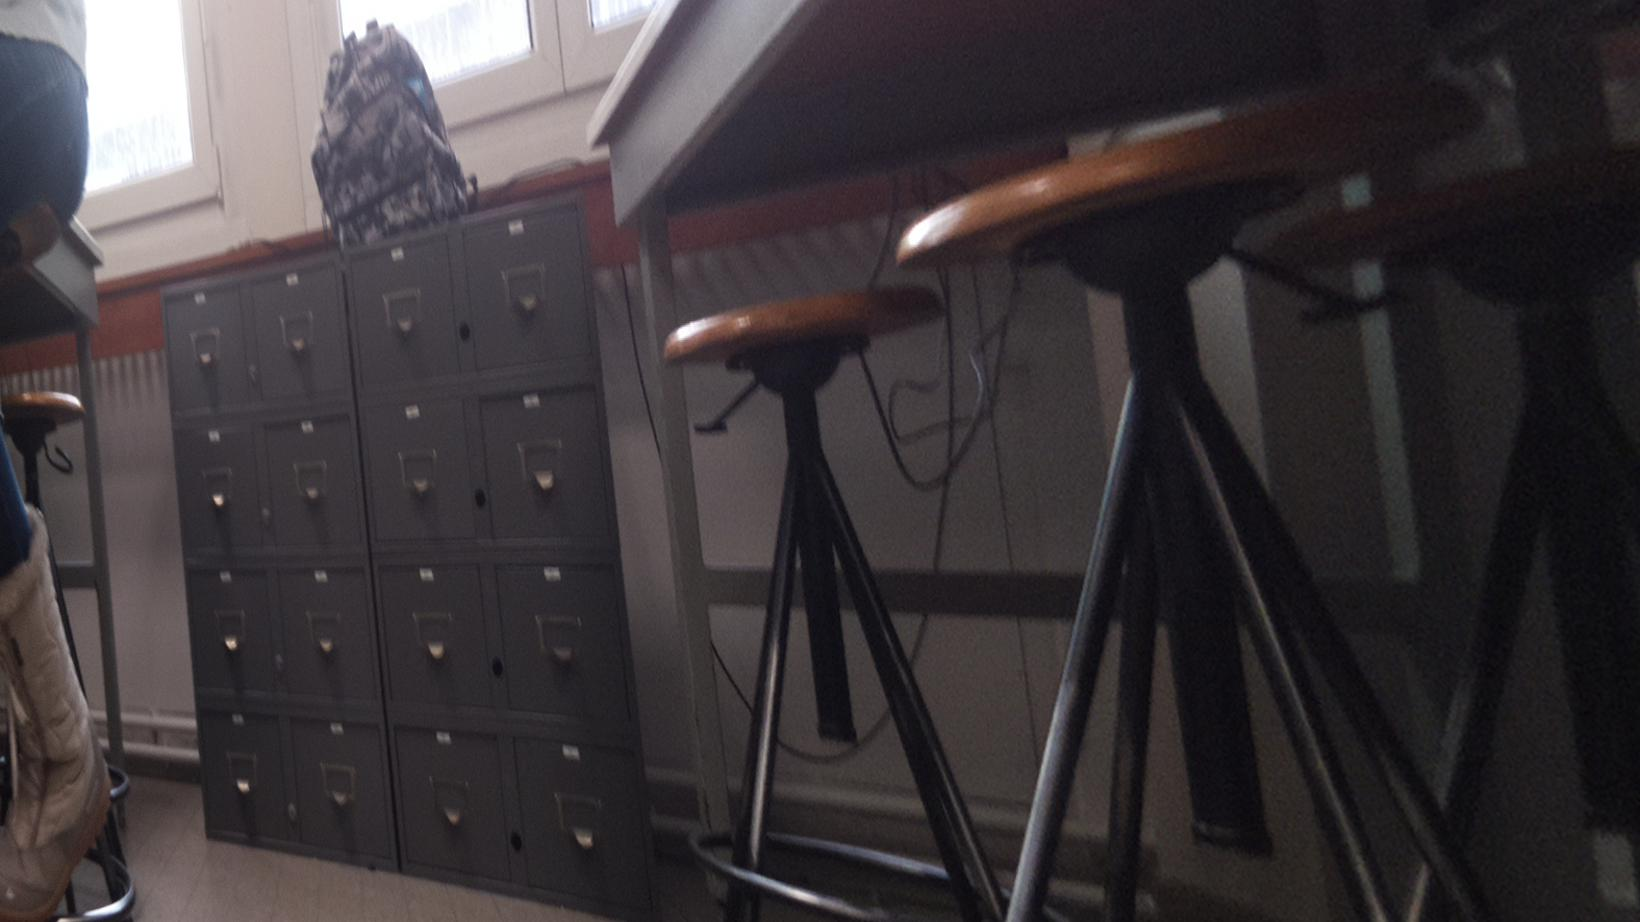big: (317, 33, 454, 229)
